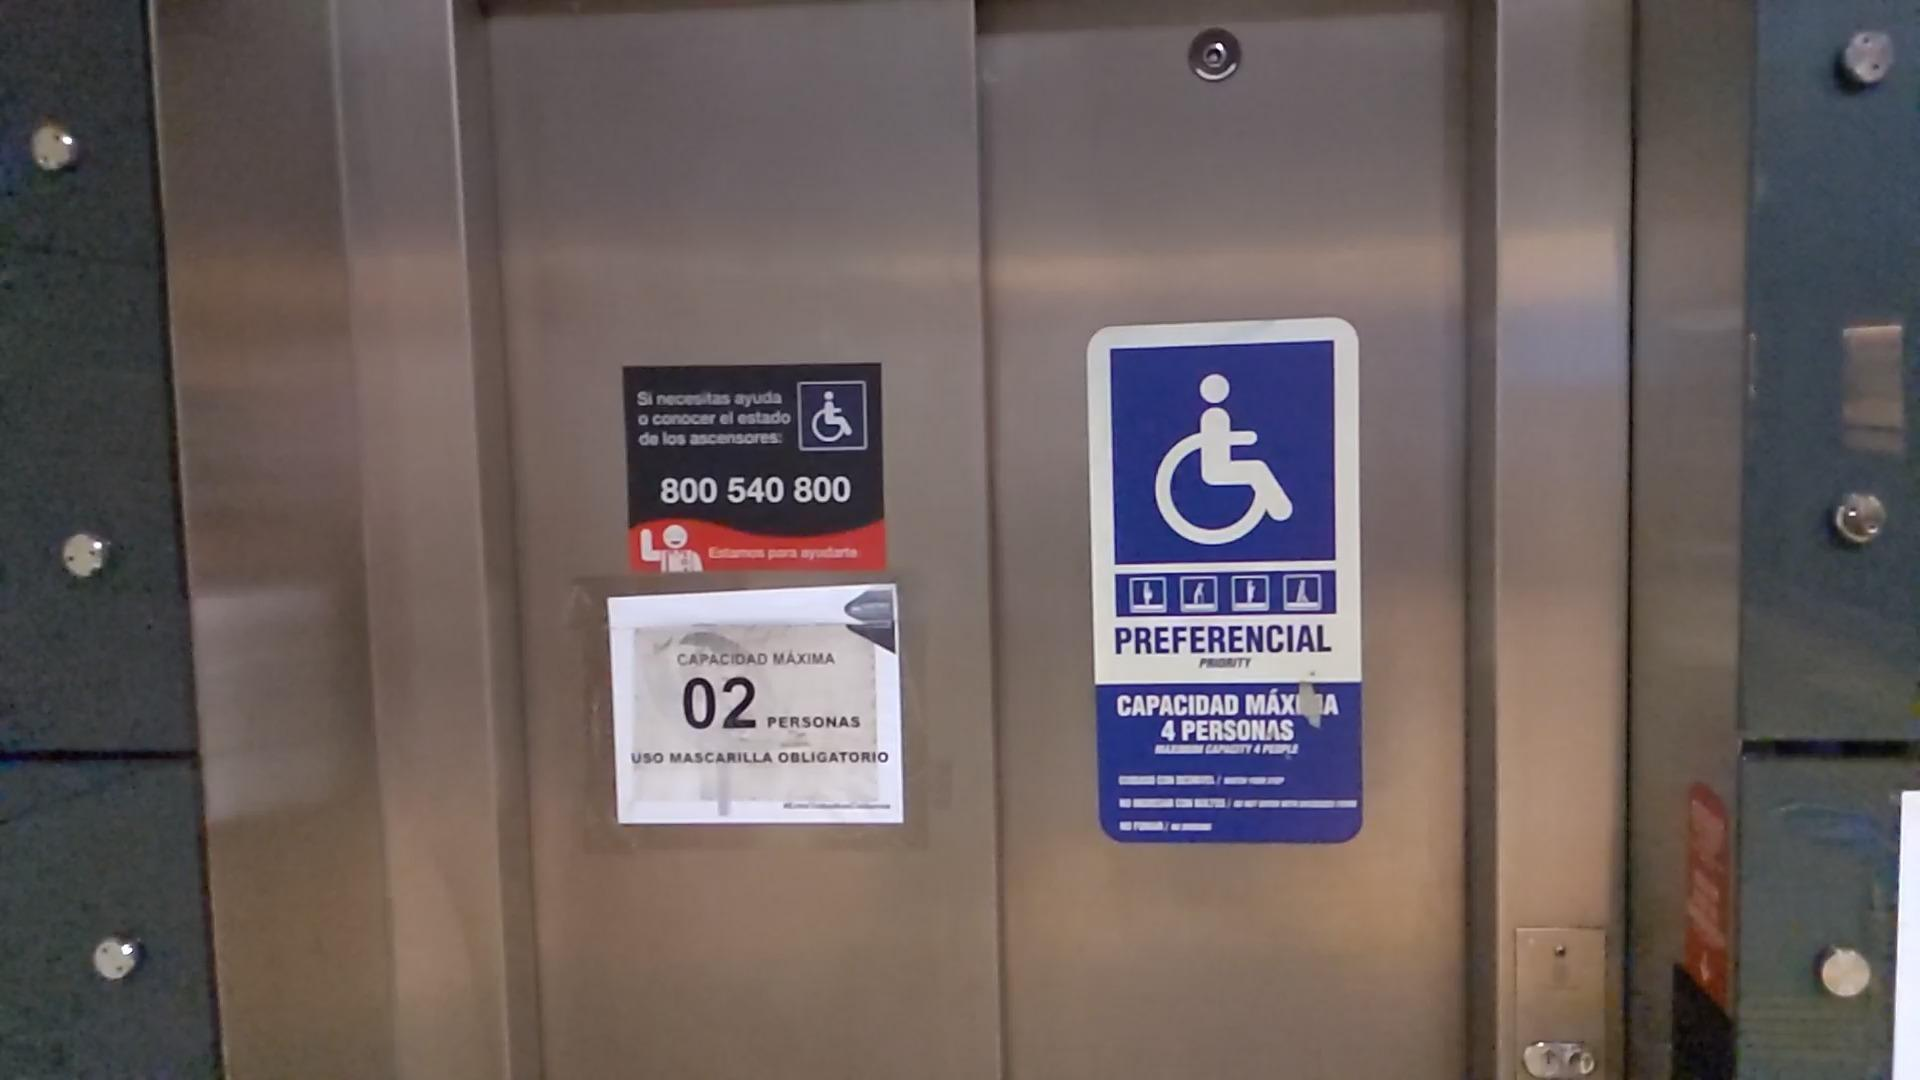handicapped symbol: (1153, 368, 1299, 547), (811, 386, 852, 443)
